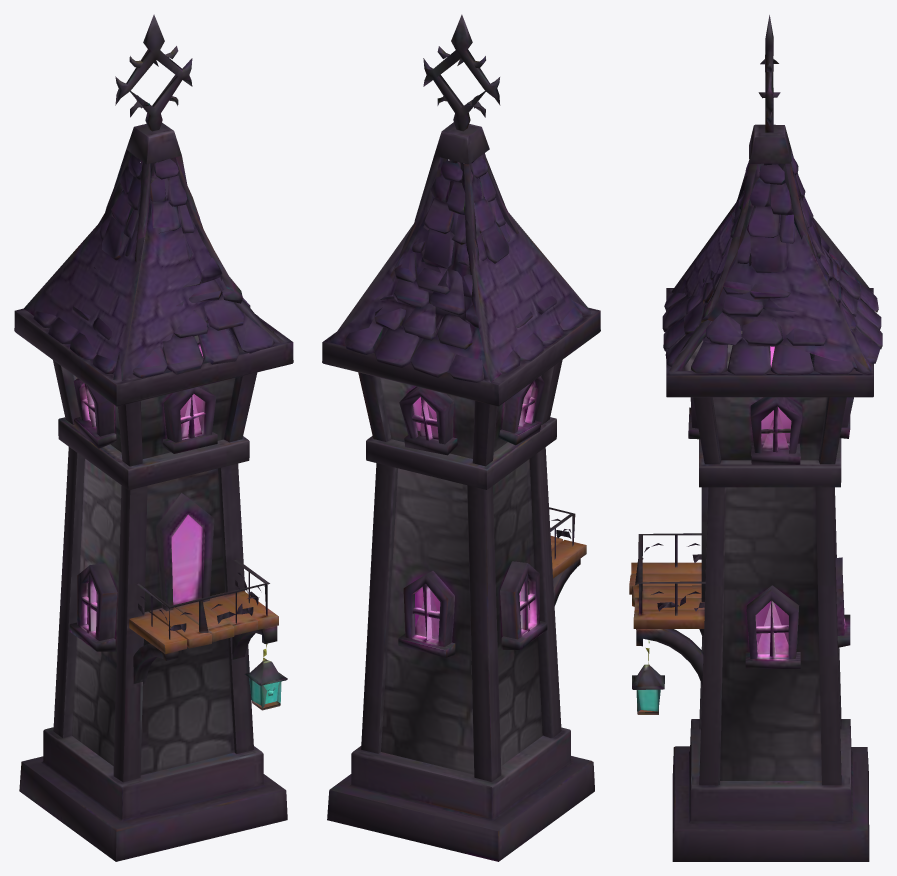
The model's file is mansion_torre.glb.
3 renders of one model, left to right at view 1: azimuth 30°, elevation 25°; view 2: azimuth 150°, elevation 25°; view 3: azimuth 270°, elevation 25°, orthographic.
Parts seen in each view (by area): view 1: tripo_node_c2bb914e-d655-4060-81ac-fd1164e6ed4f; view 2: tripo_node_c2bb914e-d655-4060-81ac-fd1164e6ed4f; view 3: tripo_node_c2bb914e-d655-4060-81ac-fd1164e6ed4f.
Part boxes in pixels (x1=…): tripo_node_c2bb914e-d655-4060-81ac-fd1164e6ed4f: x1=14, y1=14, x2=293, y2=861; tripo_node_c2bb914e-d655-4060-81ac-fd1164e6ed4f: x1=322, y1=14, x2=600, y2=861; tripo_node_c2bb914e-d655-4060-81ac-fd1164e6ed4f: x1=629, y1=15, x2=882, y2=861.
Bounding box in the file's own units: 0.2334 × 0.9987 × 0.285.
Materials: 1 (1 with a texture image).
